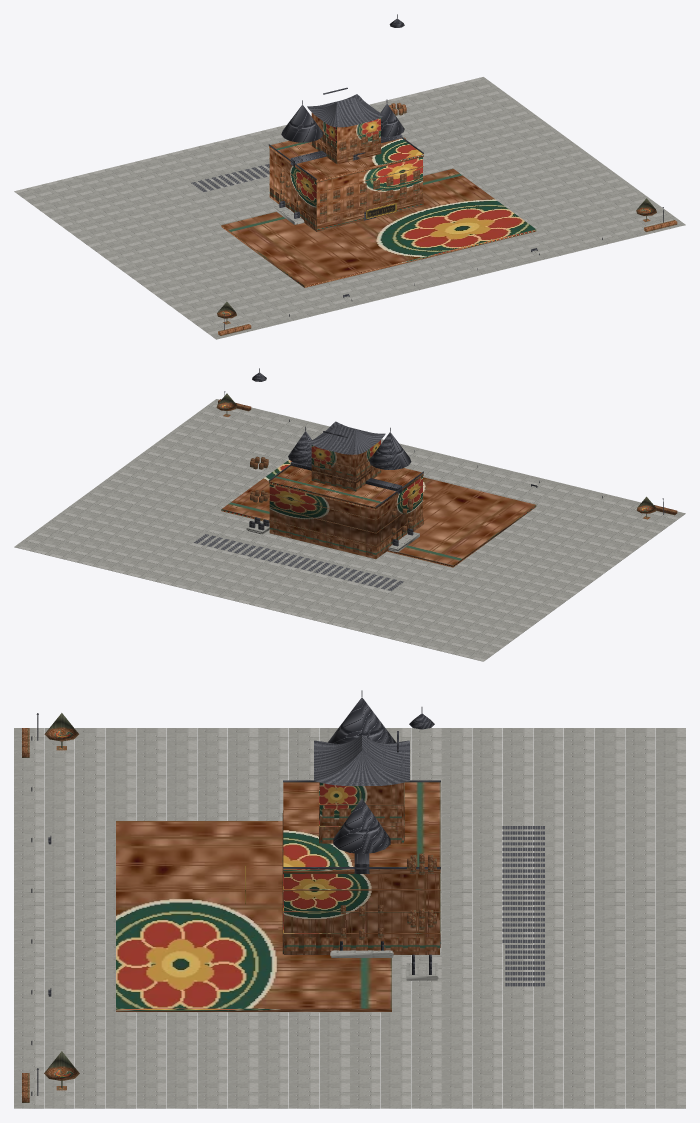
3 views of the same model, one above another, from view 1: azimuth 30°, elevation 25°; view 2: azimuth 150°, elevation 25°; view 3: azimuth 270°, elevation 25° (orthographic). The views are drawn at different scales.
Visible parts, largest first — view 1: 11710_01_05551_001_01__plinth_ground_base, 11710_01_05551_001_02__mass_body_facade, 11710_01_05551_001_03__roof_metal_ornament, 11710_01_05551_001_03__roof_deck_structure, 11710_01_05551_001_05__window_sash_glass, 11710_01_05551_001_06__landscape_greenery; view 2: 11710_01_05551_001_01__plinth_ground_base, 11710_01_05551_001_02__mass_body_facade, 11710_01_05551_001_03__roof_deck_structure, 11710_01_05551_001_03__roof_metal_ornament, 11710_01_05551_001_06__landscape_greenery, 11710_01_05551_001_05__window_sash_glass; view 3: 11710_01_05551_001_01__plinth_ground_base, 11710_01_05551_001_02__mass_body_facade, 11710_01_05551_001_03__roof_deck_structure, 11710_01_05551_001_03__roof_metal_ornament, 11710_01_05551_001_06__landscape_greenery, 11710_01_05551_001_05__window_sash_glass.
Boxes of the visible parts, x1,y1,x2,y2 form: 11710_01_05551_001_01__plinth_ground_base: [14, 77, 685, 339]; 11710_01_05551_001_02__mass_body_facade: [221, 112, 536, 287]; 11710_01_05551_001_03__roof_metal_ornament: [268, 14, 423, 179]; 11710_01_05551_001_03__roof_deck_structure: [191, 94, 385, 191]; 11710_01_05551_001_05__window_sash_glass: [279, 102, 419, 223]; 11710_01_05551_001_06__landscape_greenery: [217, 198, 677, 335]; 11710_01_05551_001_01__plinth_ground_base: [14, 399, 685, 661]; 11710_01_05551_001_02__mass_body_facade: [221, 440, 536, 567]; 11710_01_05551_001_03__roof_deck_structure: [194, 421, 403, 590]; 11710_01_05551_001_03__roof_metal_ornament: [252, 368, 423, 507]; 11710_01_05551_001_06__landscape_greenery: [216, 393, 677, 519]; 11710_01_05551_001_05__window_sash_glass: [250, 456, 412, 534]; 11710_01_05551_001_01__plinth_ground_base: [14, 728, 685, 1108]; 11710_01_05551_001_02__mass_body_facade: [116, 782, 440, 1011]; 11710_01_05551_001_03__roof_deck_structure: [314, 735, 544, 986]; 11710_01_05551_001_03__roof_metal_ornament: [283, 690, 440, 873]; 11710_01_05551_001_06__landscape_greenery: [22, 713, 79, 1102]; 11710_01_05551_001_05__window_sash_glass: [282, 782, 436, 940].
Bounding box in the file's own units: 150 × 49.2 × 112.
Materials: 7 (7 with a texture image).
